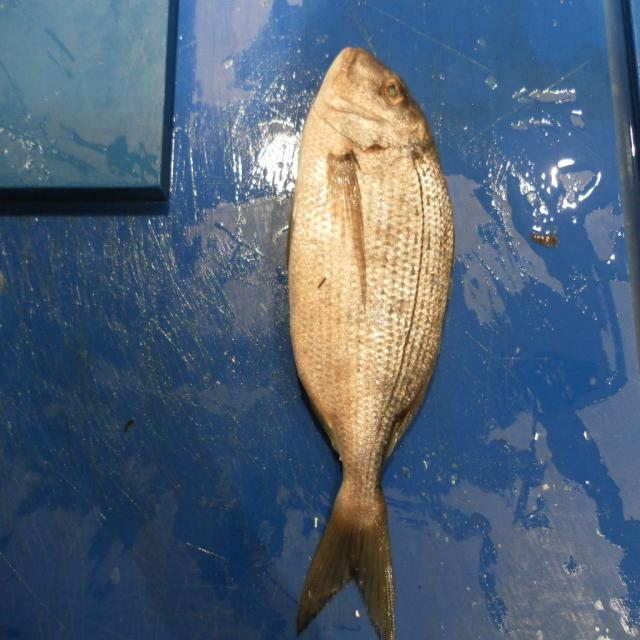Red-Sea-Bream-mercan-: (288, 47, 456, 640)
